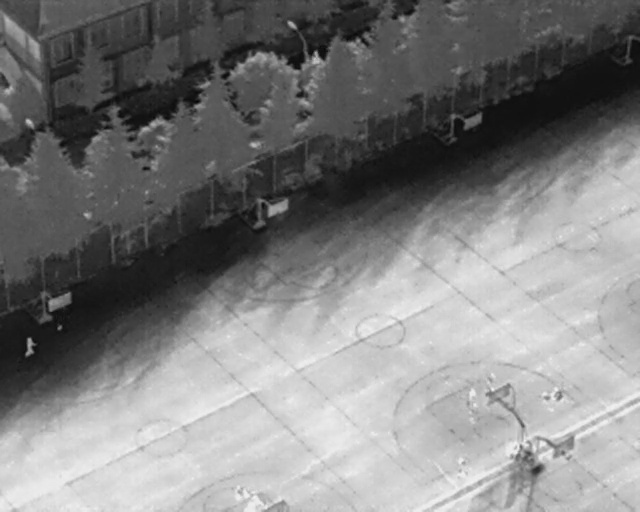Person: (483, 370, 499, 392), (455, 457, 470, 479), (22, 337, 38, 357), (550, 386, 565, 404), (232, 484, 247, 502), (467, 386, 478, 410), (540, 390, 551, 404)
